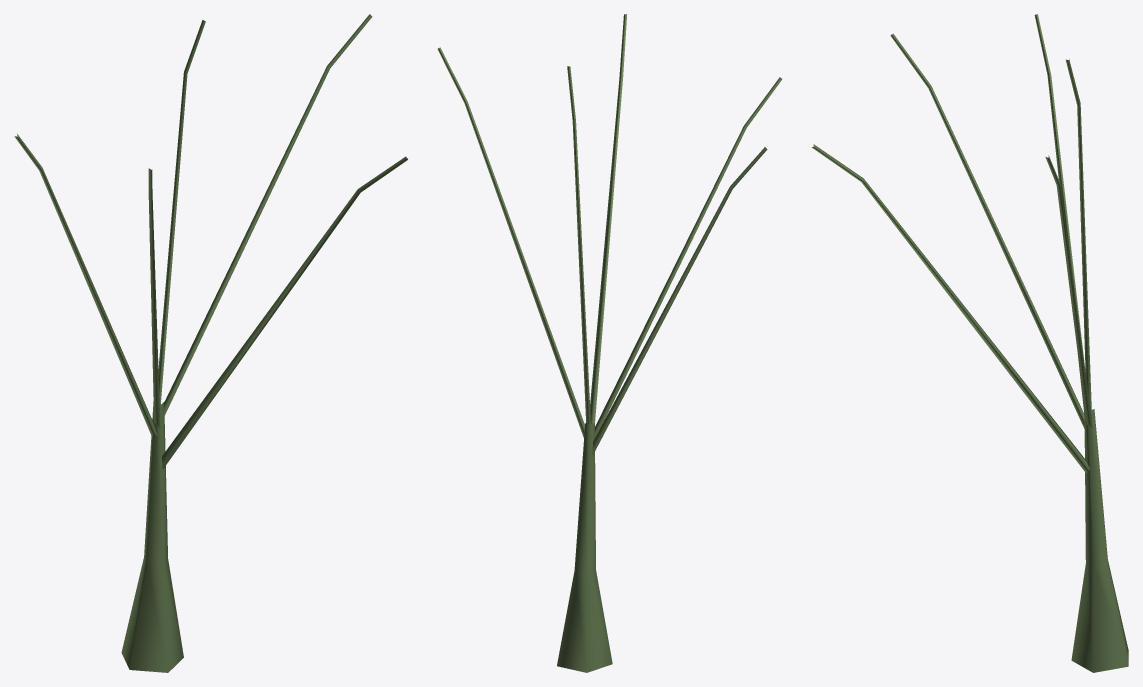
The model's file is tree_s2_lod2.glb.
3 views of the same model, side by side, from view 1: azimuth 30°, elevation 25°; view 2: azimuth 150°, elevation 25°; view 3: azimuth 270°, elevation 25° (orthographic). The views are drawn at different scales.
Bounding box in the file's own units: 6.22 × 10.56 × 4.91.
